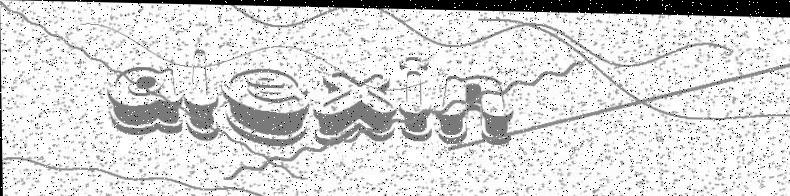a: (107, 61, 185, 135)
e: (219, 60, 315, 154)
i: (399, 48, 434, 146)
l: (181, 39, 224, 145)
n: (431, 62, 518, 152)
x: (314, 62, 400, 144)
